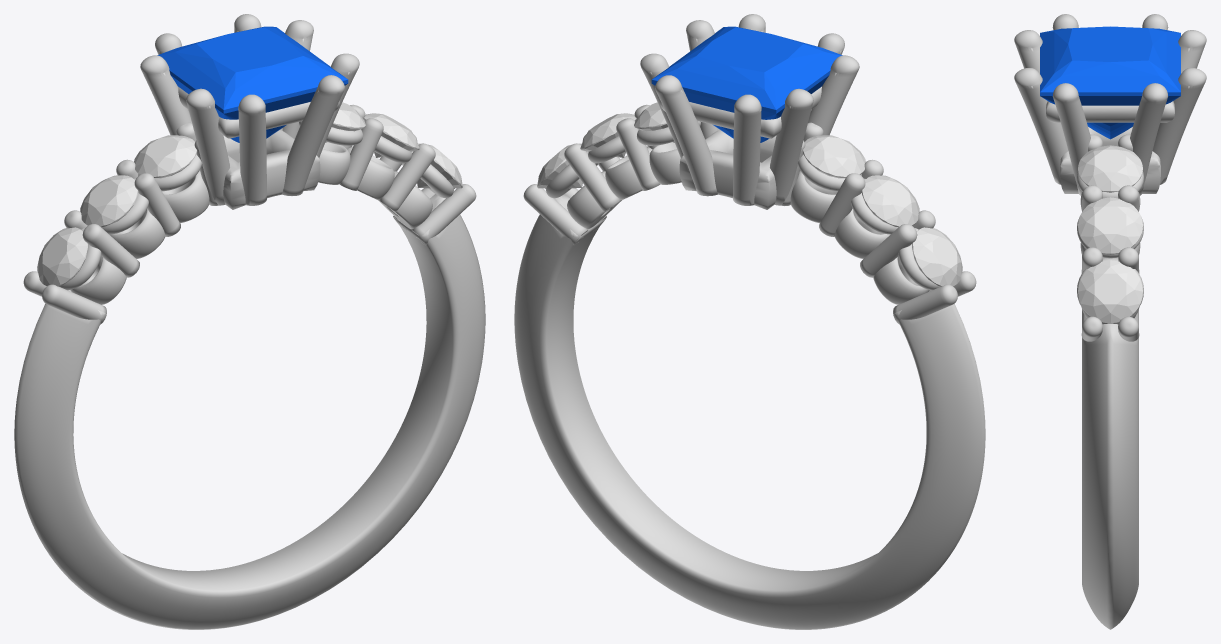
Rendered from bluesapphire-princess-platinum-8prong-knifeedge-7stone.glb.
3 renders of one model, left to right at view 1: azimuth 30°, elevation 25°; view 2: azimuth 150°, elevation 25°; view 3: azimuth 270°, elevation 25°, orthographic. The views are drawn at different scales.
Parts seen in each view (by area): view 1: metal, stone, side, side.001, side.002, side.004, side.005, side.003; view 2: metal, stone, side, side.001, side.002, side.004, side.005, side.003; view 3: metal, stone, side.005, side.004, side.003.
Part boxes in pixels (x1,y1,x2,y2): metal: (14,14,485,629); stone: (157,26,348,142); side: (37,227,87,286); side.001: (80,175,138,227); side.002: (134,135,196,178); side.004: (363,113,419,157); side.005: (417,143,462,188); side.003: (325,102,365,142); metal: (514,14,985,629); stone: (651,26,842,142); side: (912,227,962,286); side.001: (861,175,919,227); side.002: (803,135,865,178); side.004: (580,113,636,157); side.005: (537,143,582,188); side.003: (634,102,674,142); metal: (1014,14,1206,629); stone: (1040,26,1180,139); side.005: (1078,260,1142,323); side.004: (1078,197,1142,254); side.003: (1078,145,1142,192).
Size of the model in its own units: 20.5 by 23.85 by 7.42.
